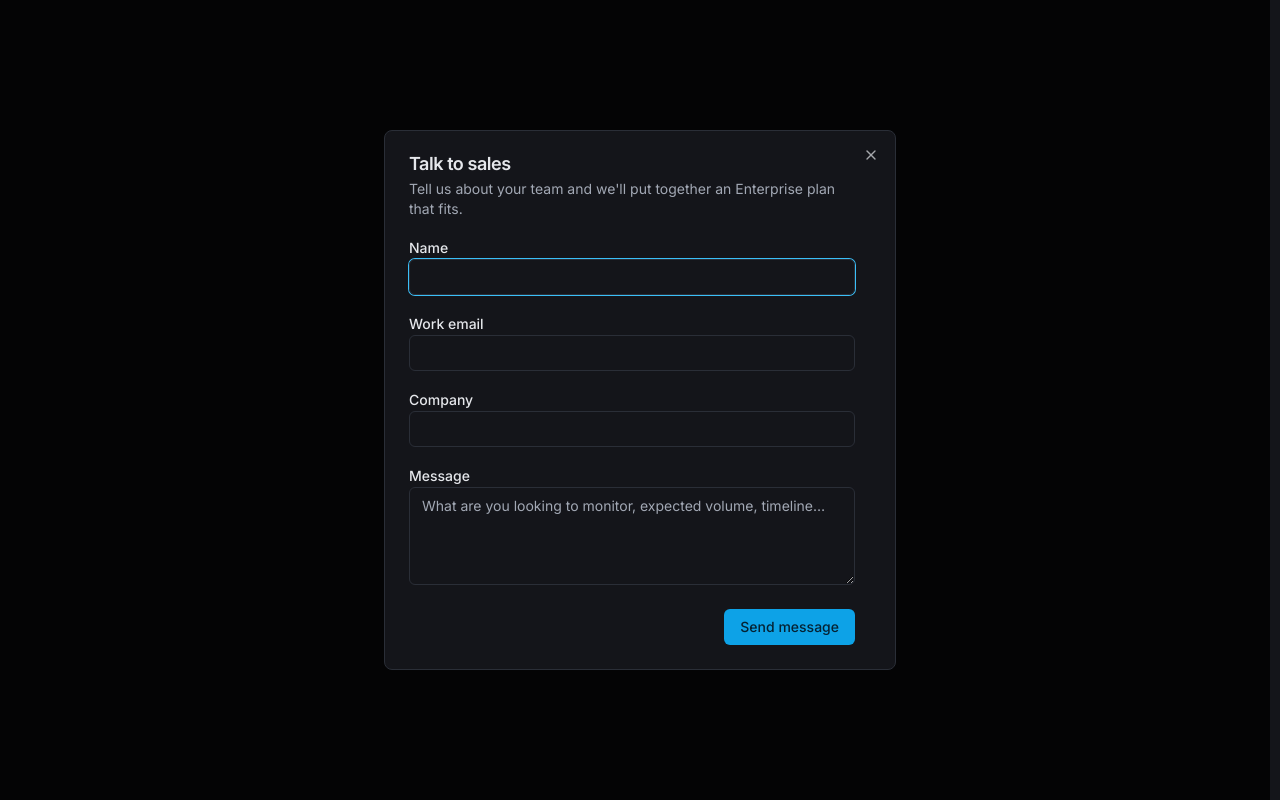
SalesContactDialog › blocks submission and shows validation errors when required fields are empty
The image size is (1280, 800).
What coordinates should you click on to do the following:
click the button "Send message"
I would click on:
 (790, 627)
Its box is [724, 609, 855, 645].
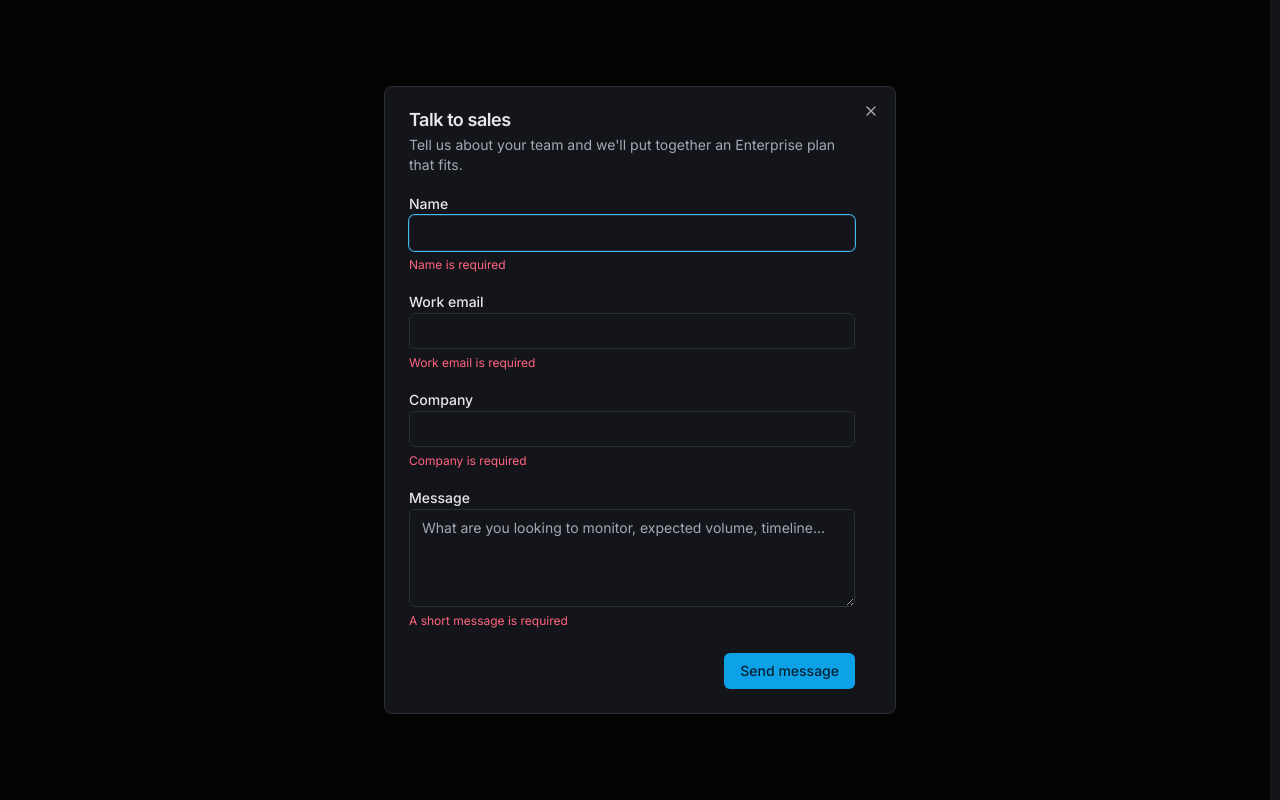
Now the text "Name is required" is shown, box [409, 257, 506, 272]
